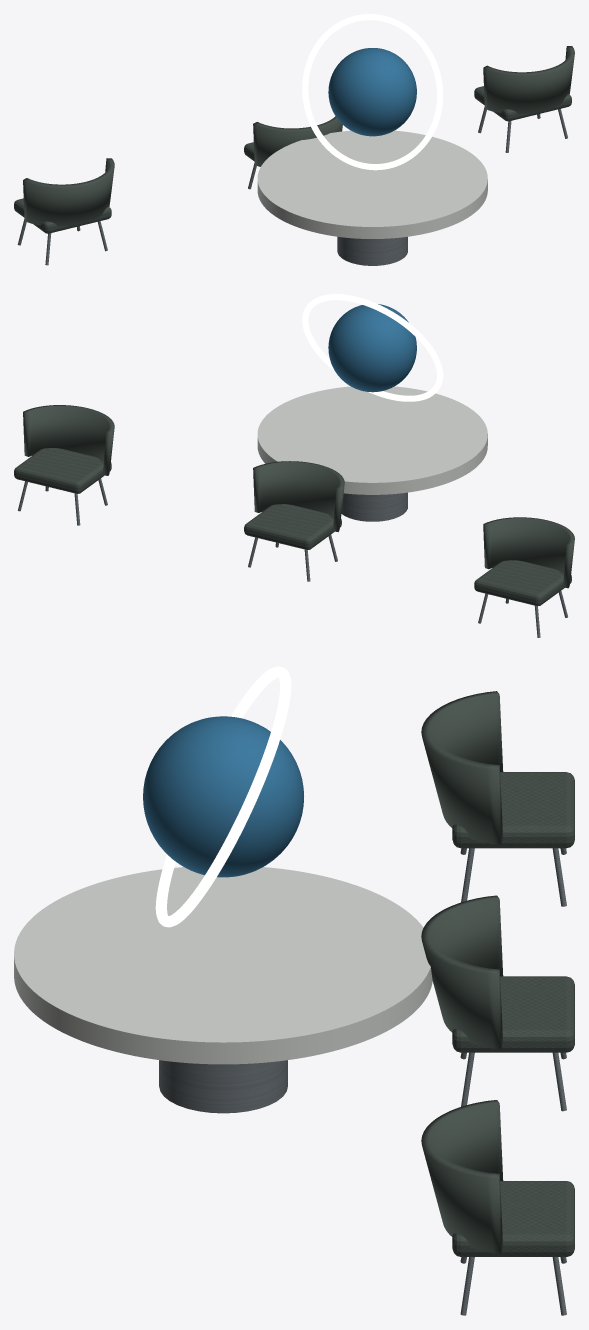
The model's file is vision.glb.
The picture shows the model from 3 angles, top to bottom: view 1: azimuth 30°, elevation 25°; view 2: azimuth 150°, elevation 25°; view 3: azimuth 270°, elevation 25°; orthographic projection. The views are drawn at different scales.
Visible parts, largest first — view 1: Static_vision, Float_Horizon, Spin_Horizon; view 2: Static_vision, Float_Horizon, Spin_Horizon; view 3: Static_vision, Float_Horizon, Spin_Horizon.
Boxes of the visible parts, left/top/right/bottom form: Static_vision: left=14, top=46, right=574, bottom=265; Float_Horizon: left=328, top=48, right=416, bottom=136; Spin_Horizon: left=302, top=14, right=443, bottom=170; Static_vision: left=14, top=386, right=574, bottom=637; Float_Horizon: left=328, top=304, right=416, bottom=392; Spin_Horizon: left=302, top=294, right=443, bottom=401; Static_vision: left=14, top=691, right=574, bottom=1315; Float_Horizon: left=143, top=716, right=303, bottom=877; Spin_Horizon: left=155, top=666, right=291, bottom=927.
Bounding box in the file's own units: 7.16 × 2.77 × 3.48.
Materials: 5 (2 with a texture image).
